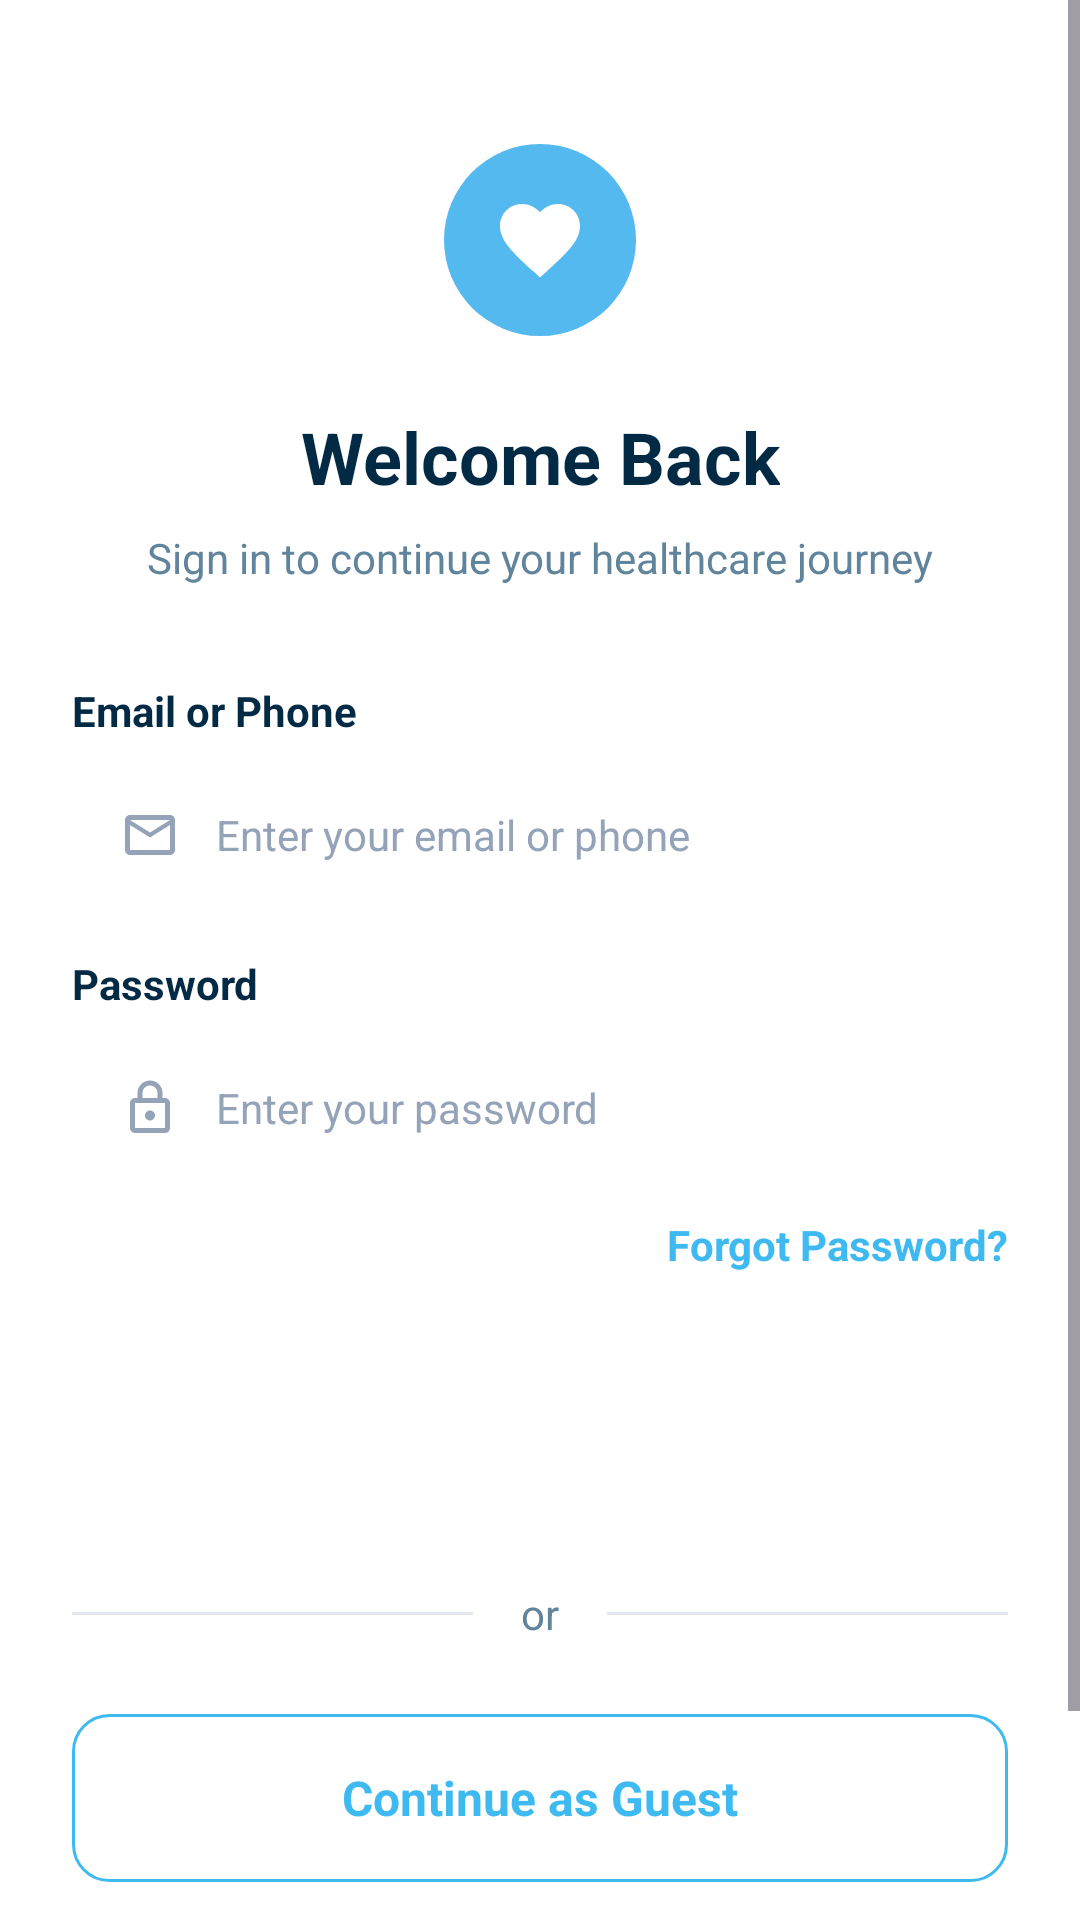

Point at icon controls on the screen. Image size 1080 × 1920, points as [x,y].
heart: [540,240]
lock: [150,1106]
